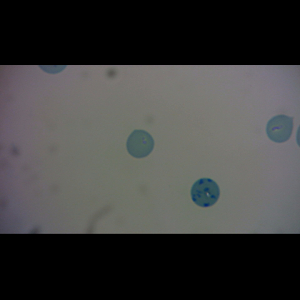aggregate reticulocyte: (190, 178, 220, 208)
erythrocyte: (125, 129, 155, 159), (265, 114, 294, 143)
